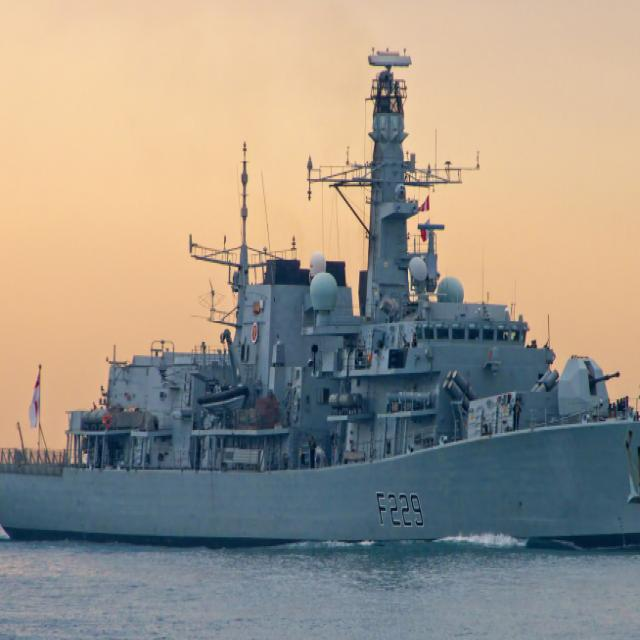Fragata: (1, 30, 640, 569)
